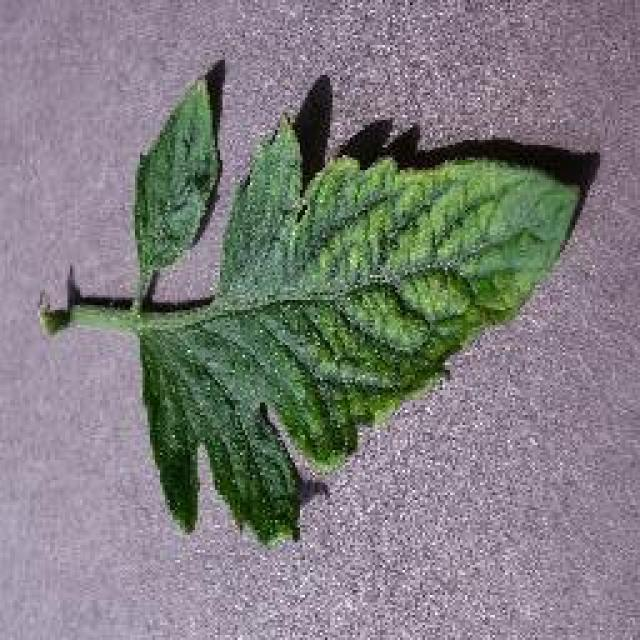Tomato spider mites leaf: (152, 119, 586, 531), (138, 75, 220, 273)
